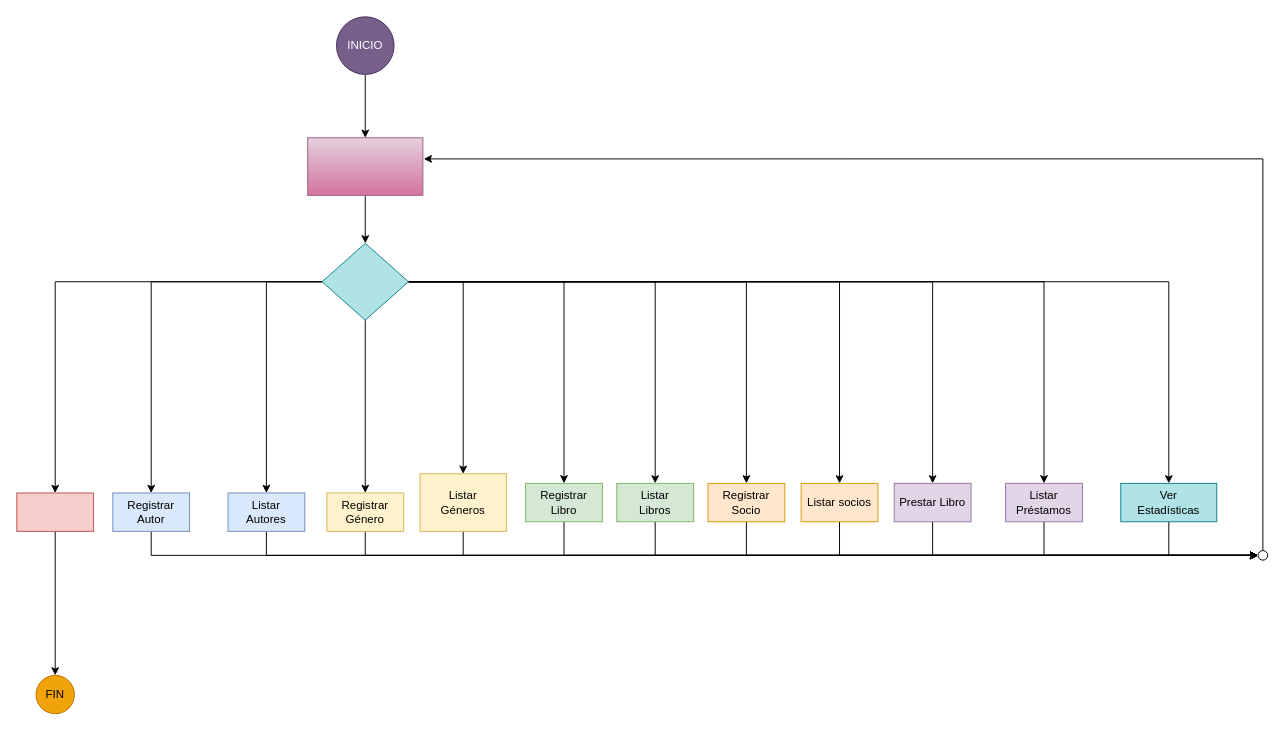
The diagram is 1287 pixels wide and 731 high, and some of its shapes have lost their labels. Each missing label, with the centre of its shape:
"Mostrar Menú" belongs at point (365, 166).
"OPCIÓN ELEGIDA" belongs at point (364, 281).
"SALIR" belongs at point (55, 511).
